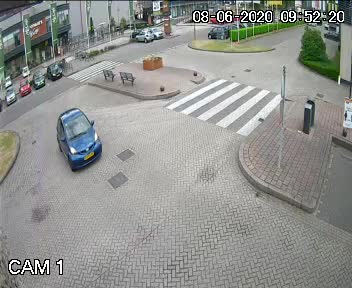car: (50, 97, 112, 176), (318, 20, 342, 42), (204, 21, 227, 42), (129, 28, 153, 46), (44, 64, 64, 77), (32, 69, 48, 85), (20, 78, 30, 97), (5, 89, 18, 103), (2, 72, 13, 88), (149, 27, 165, 38), (19, 63, 30, 76)
